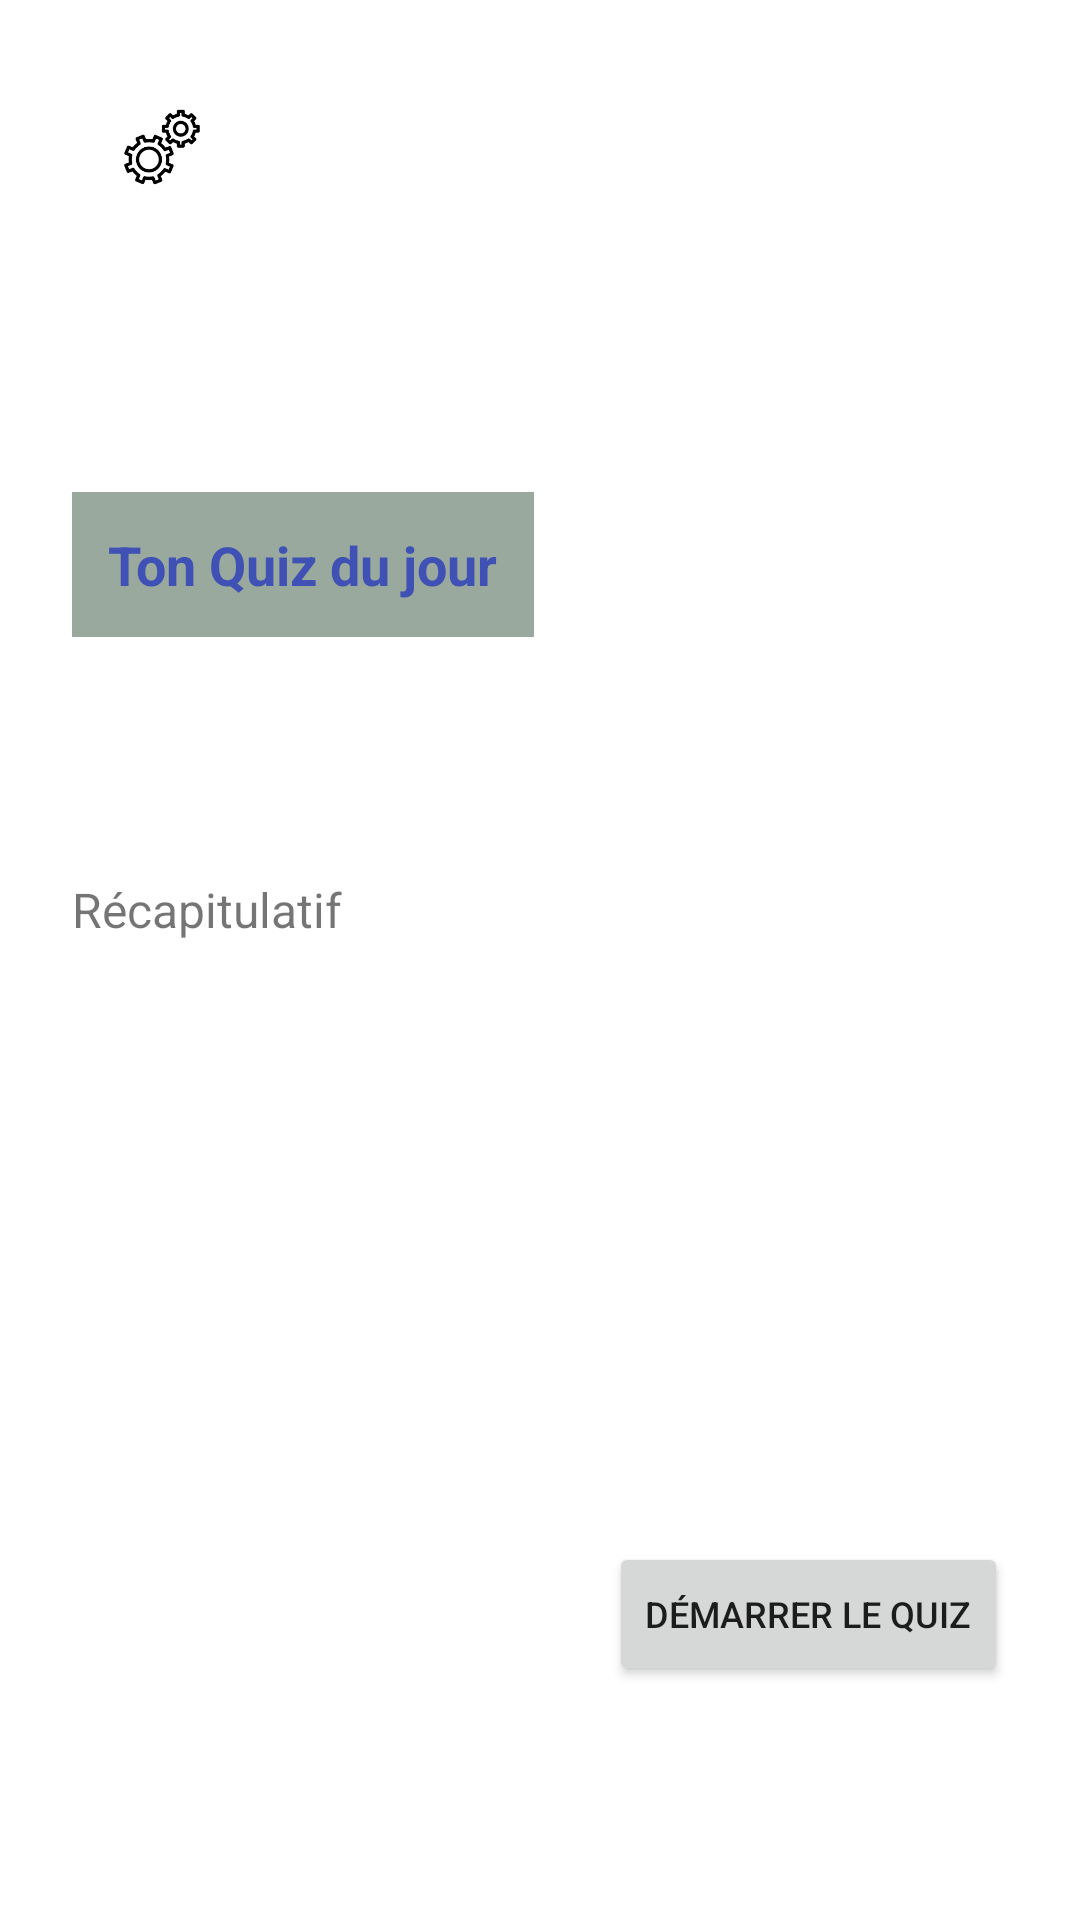

Icons on this 1080*1920 Android screen, each with the point to tap as [x,y]:
param: [162,147]
